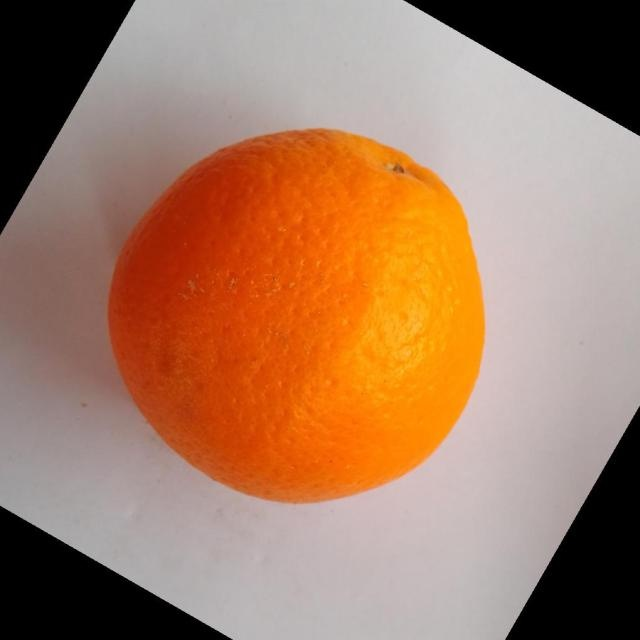agrume: (105, 126, 487, 505)
